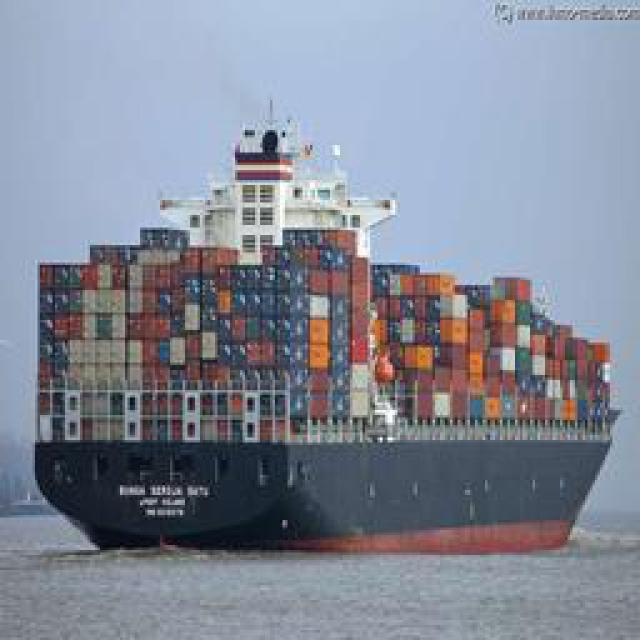Ship: (24, 64, 629, 559)
